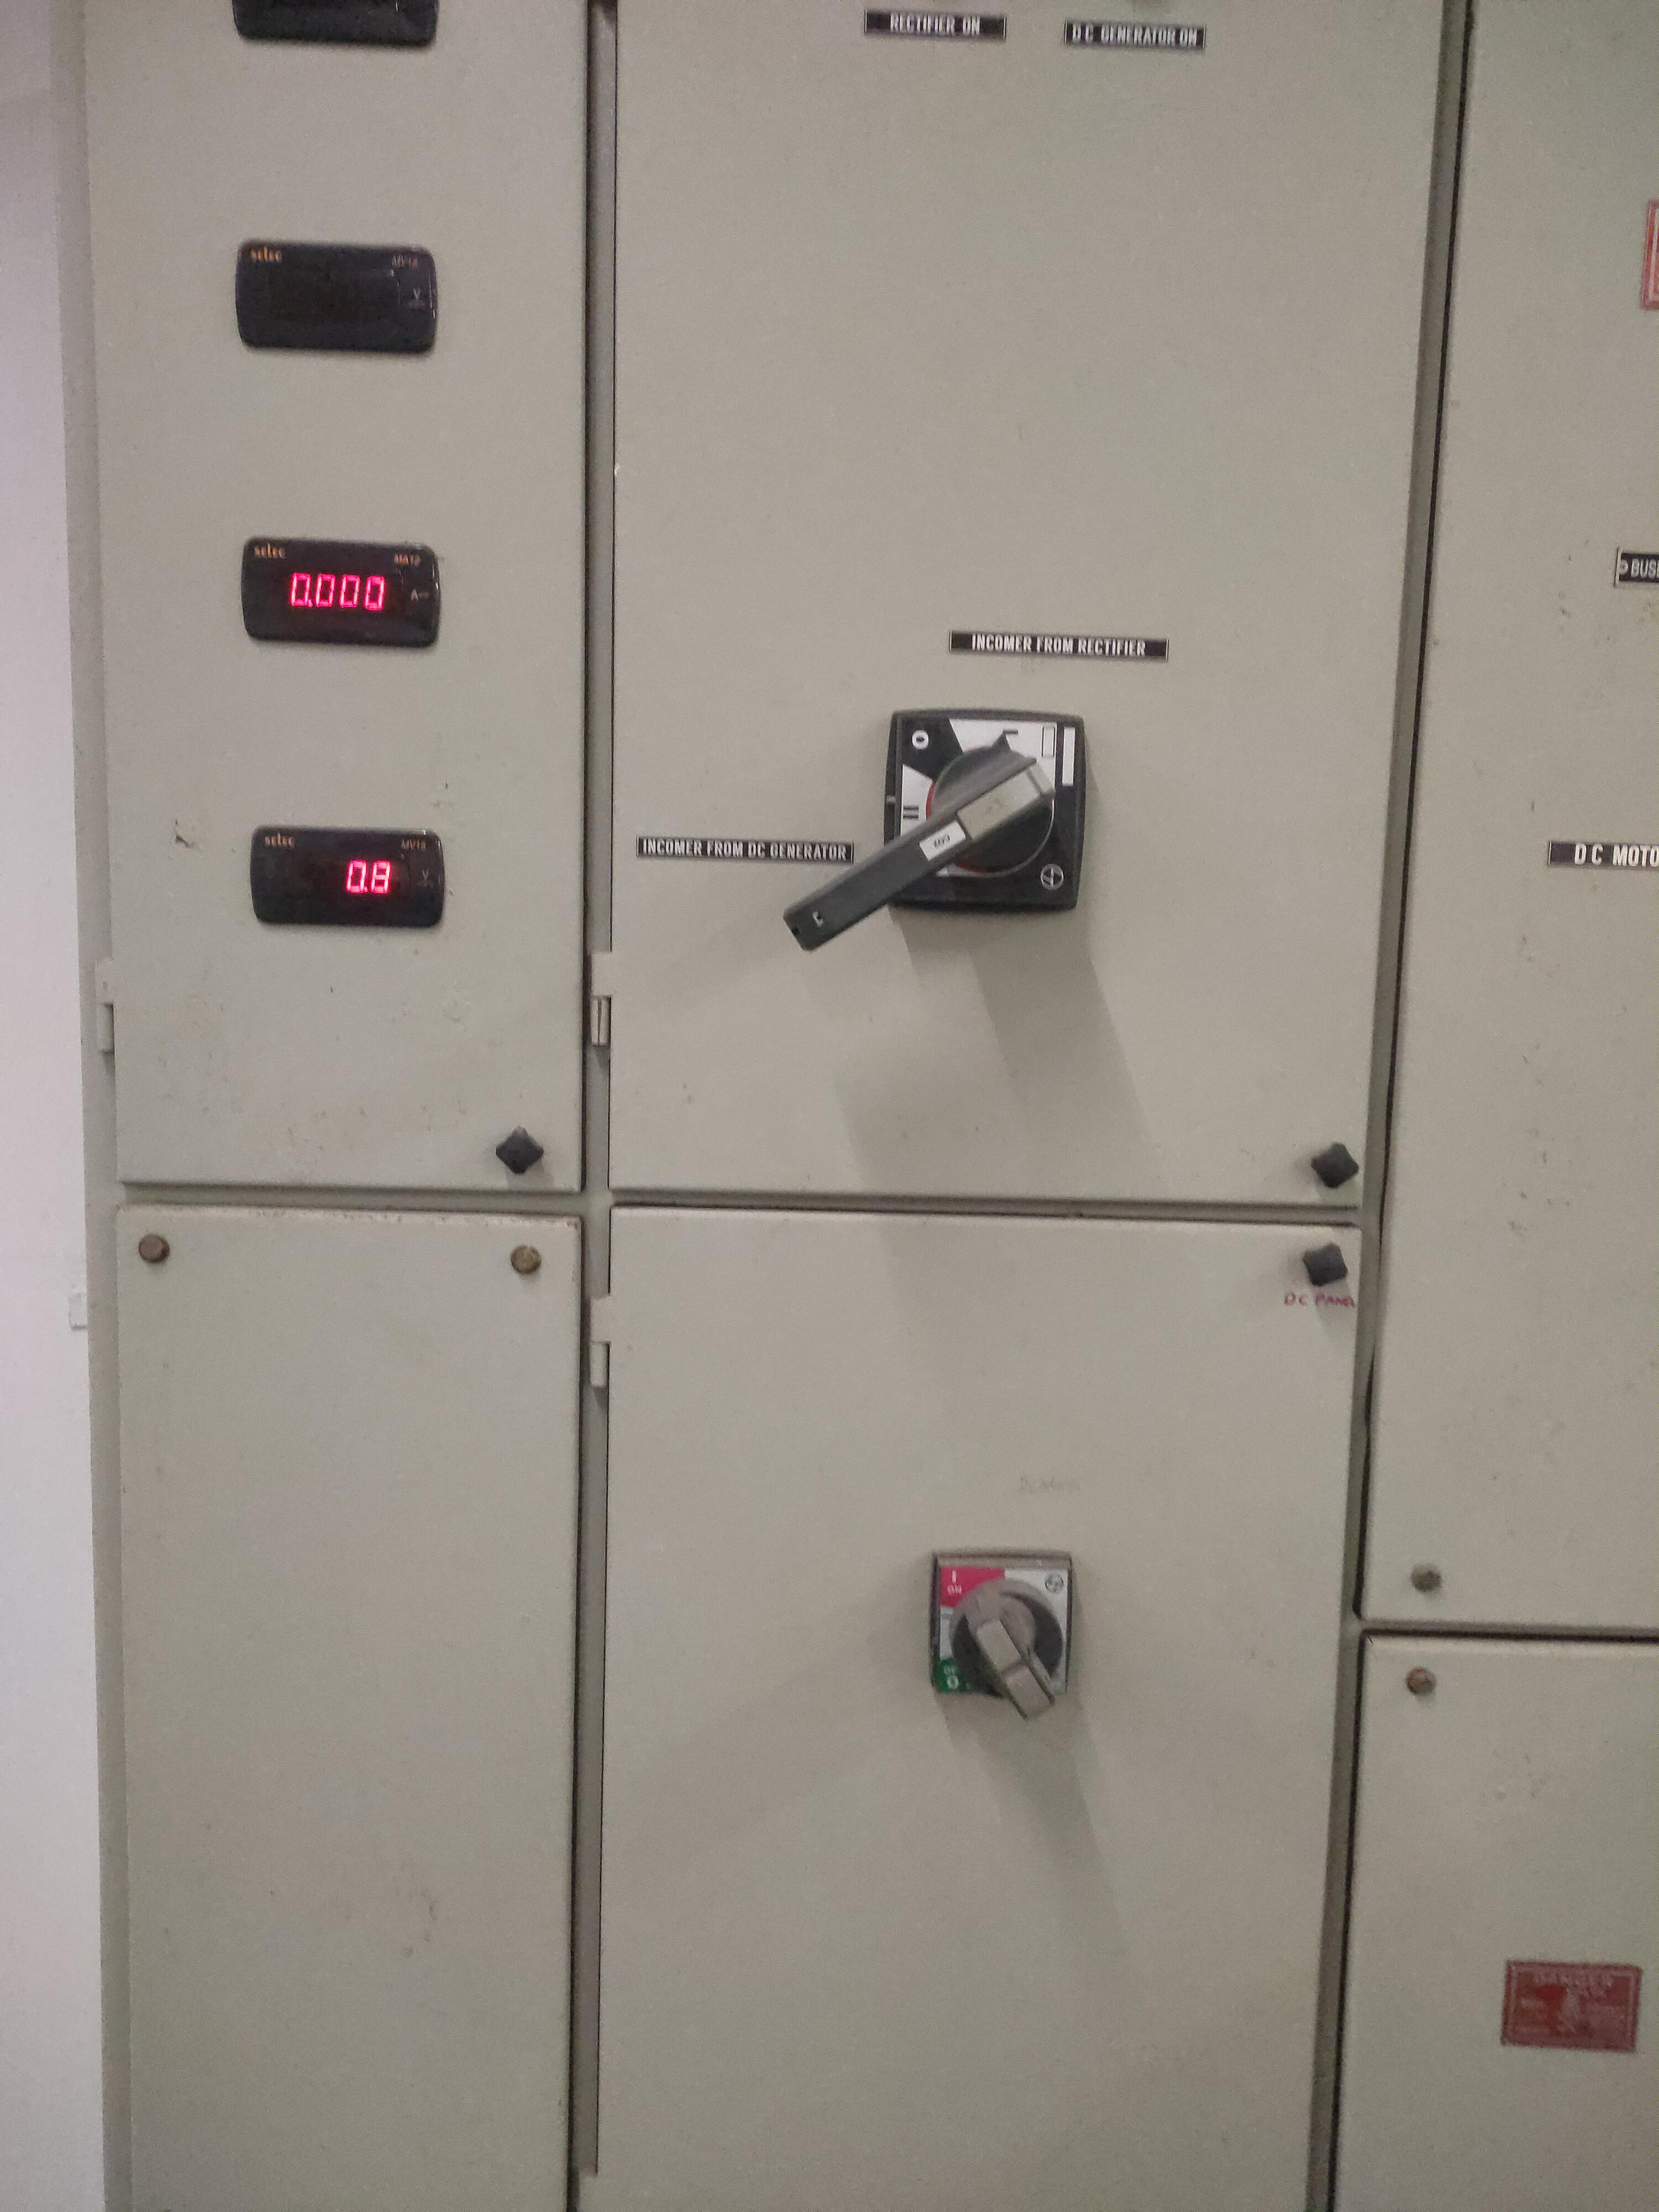Knob 1: (763, 665, 1121, 1008)
Knob 2: (892, 1515, 1107, 1723)
